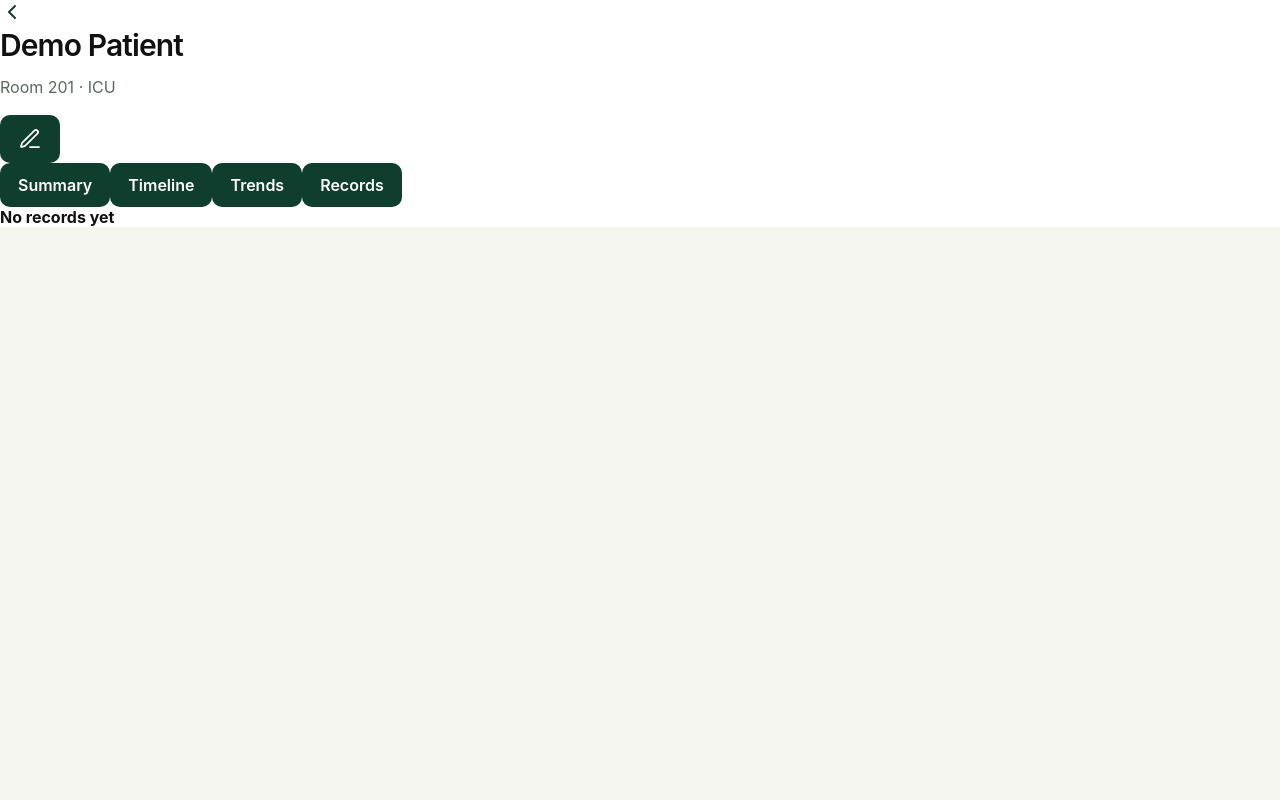
it: keeps a closed working note recoverable from the patient overview
Click the button named "Document care" at (30, 139), box [0,115,60,163]
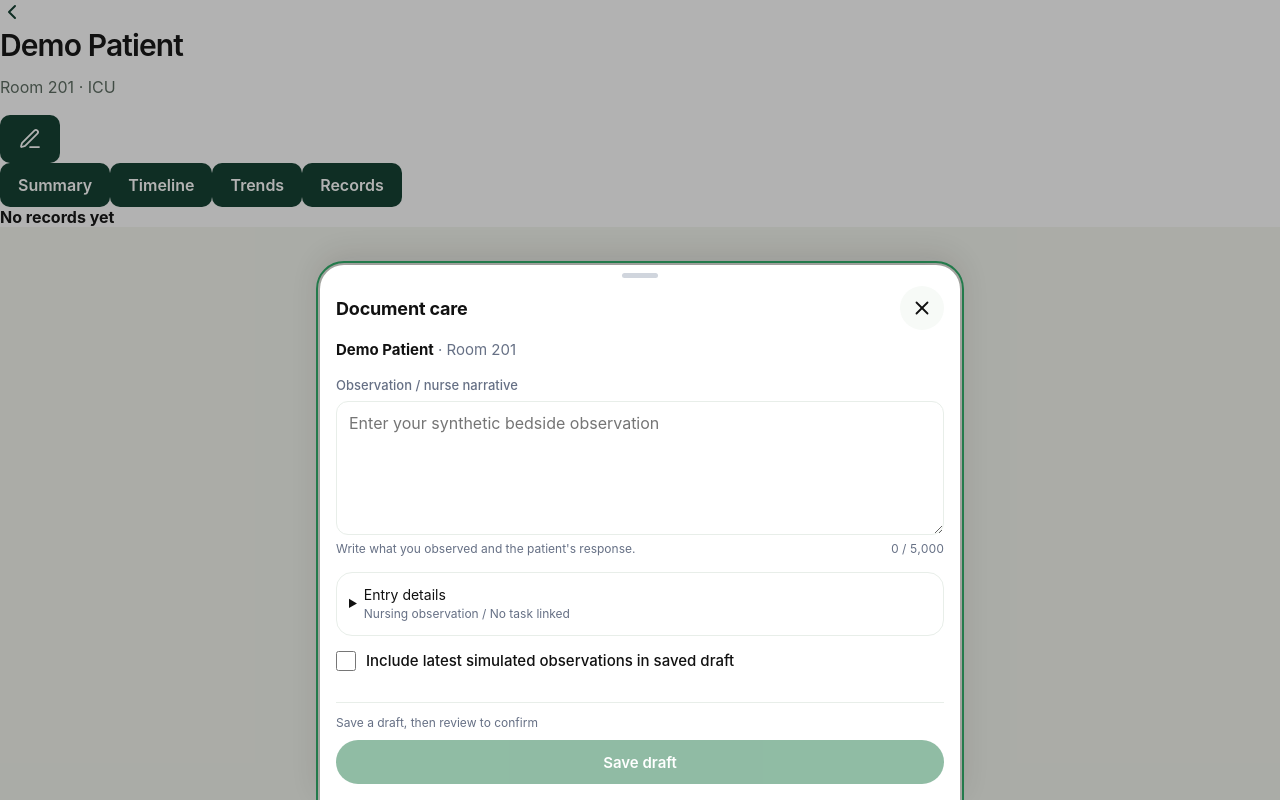
Type "Verified patient comfort and position" into the text box labelled "Observation / nurse narrative" at (640, 468), box [336,401,944,535]
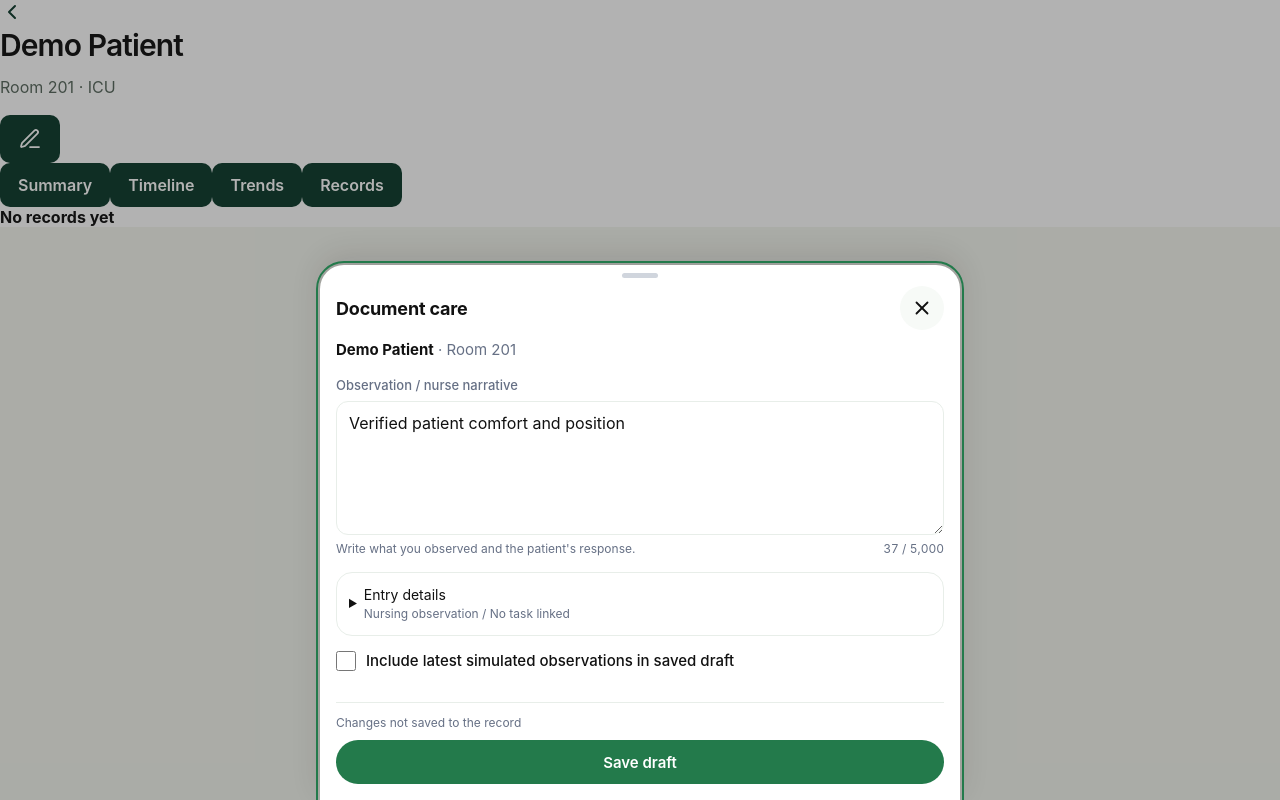
Click the button named "Close" at (922, 308), box [900,286,944,330]
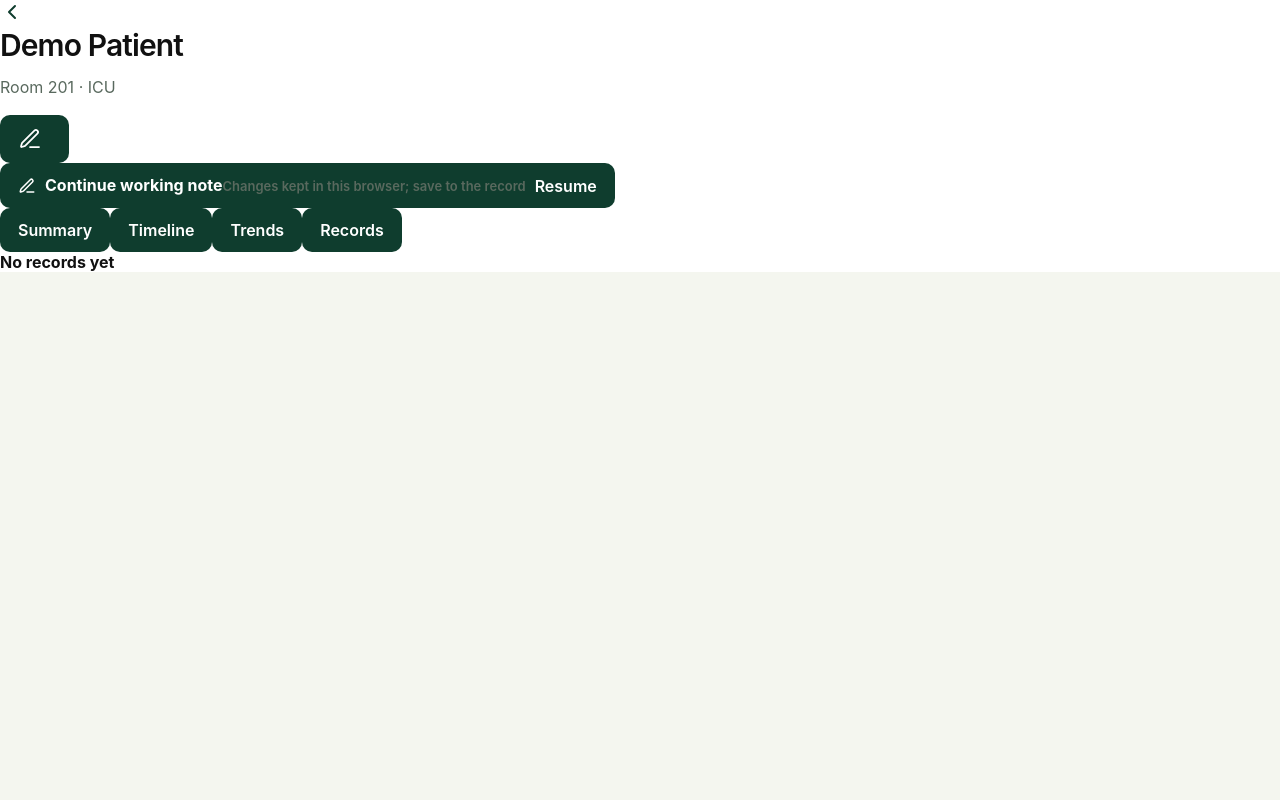
expect the text "Changes kept in this browser; save to the record" is shown: met, box [222,178,526,194]
Click the button "Continue working note" at (307, 186), box [0,163,615,208]
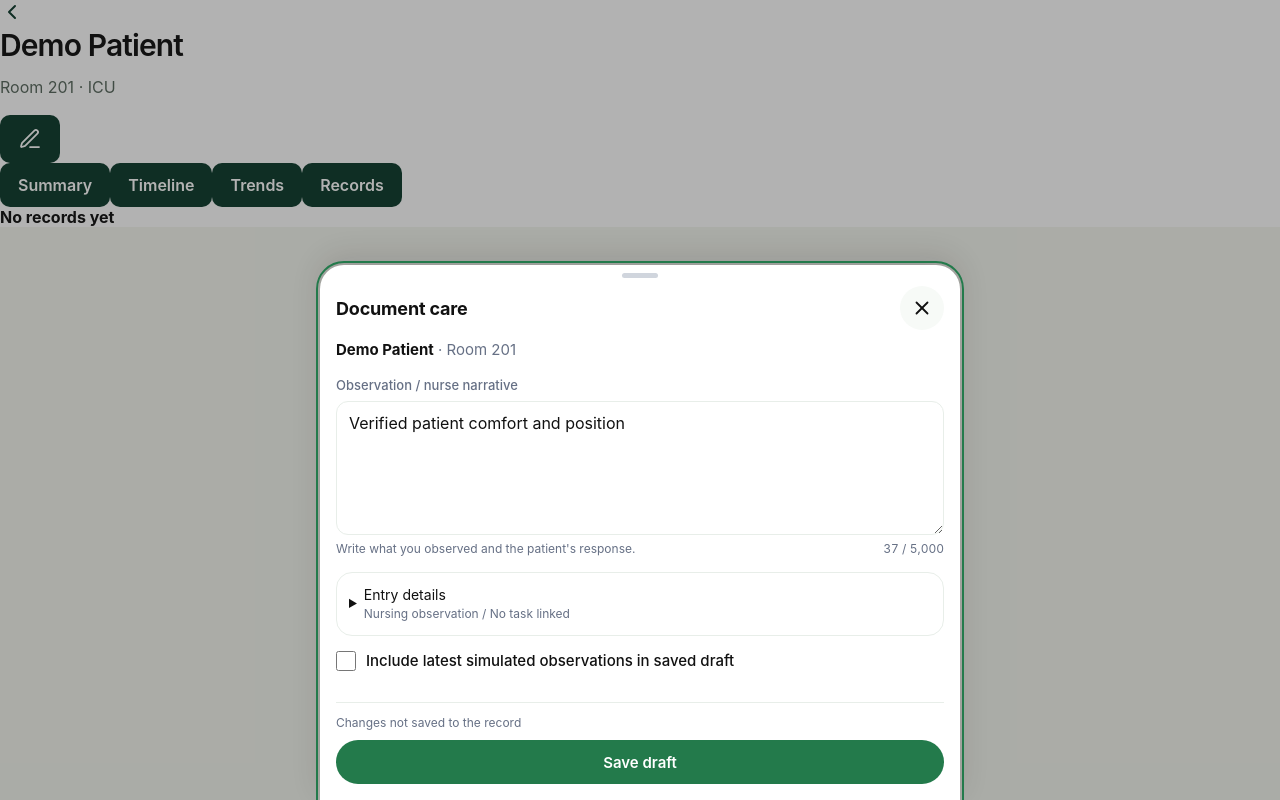
expect the text box labelled "Observation / nurse narrative" holds "Verified patient comfort and position": met, box [336,401,944,535]
